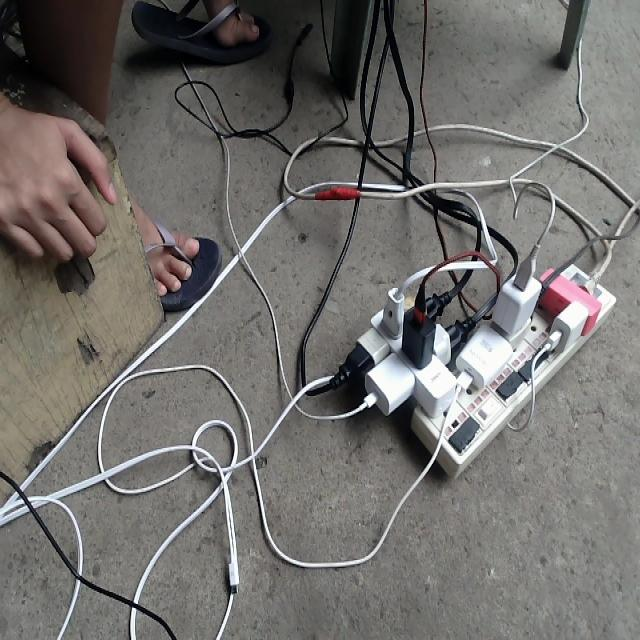-: (340, 259, 616, 476)
